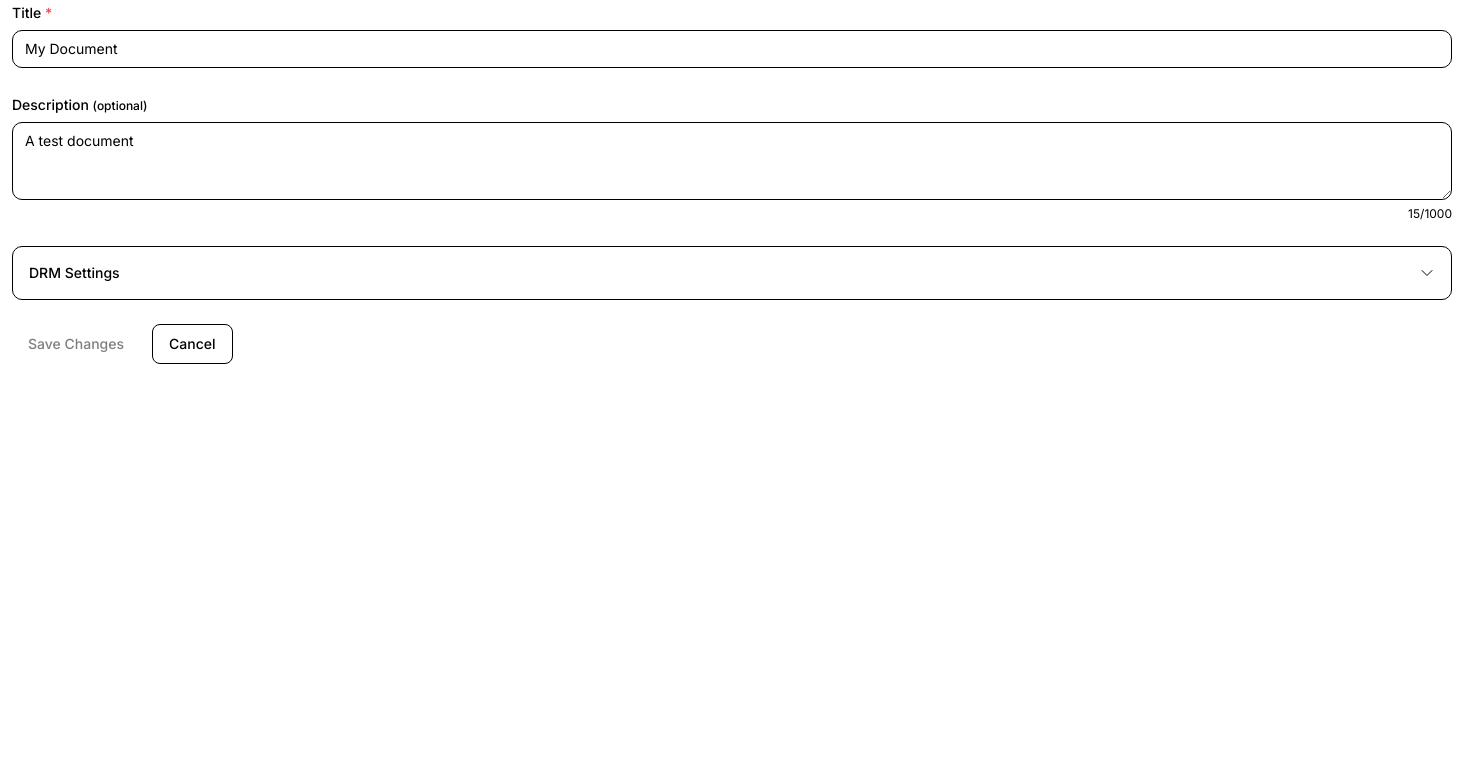
Test: DocumentSettingsForm › AC-3: DRM validation › rejects max_concurrent_sessions below 1 via initial config
Click the button "DRM Settings".
click(74, 272)  # box [29,263,1435,283]
(page scrolled)
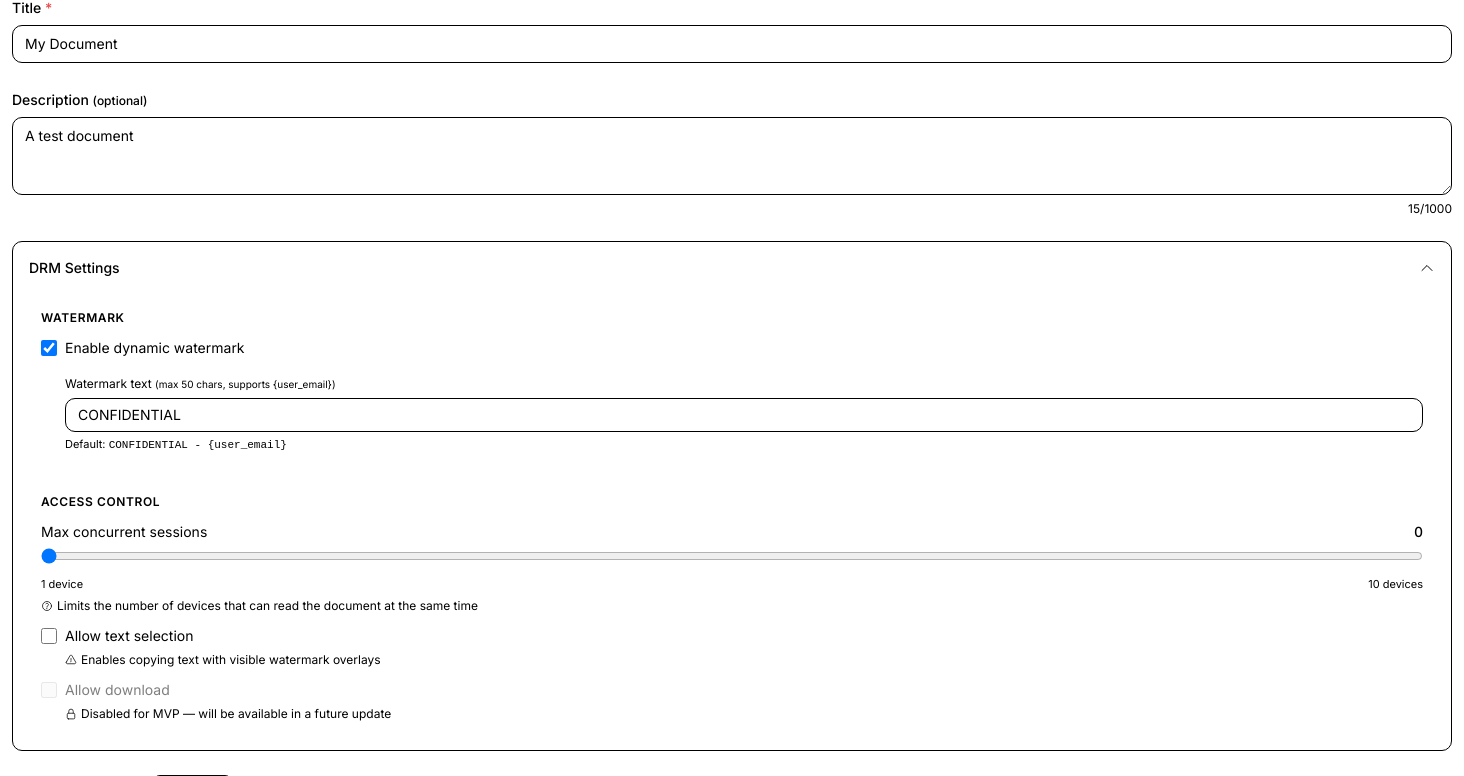
Submit the form
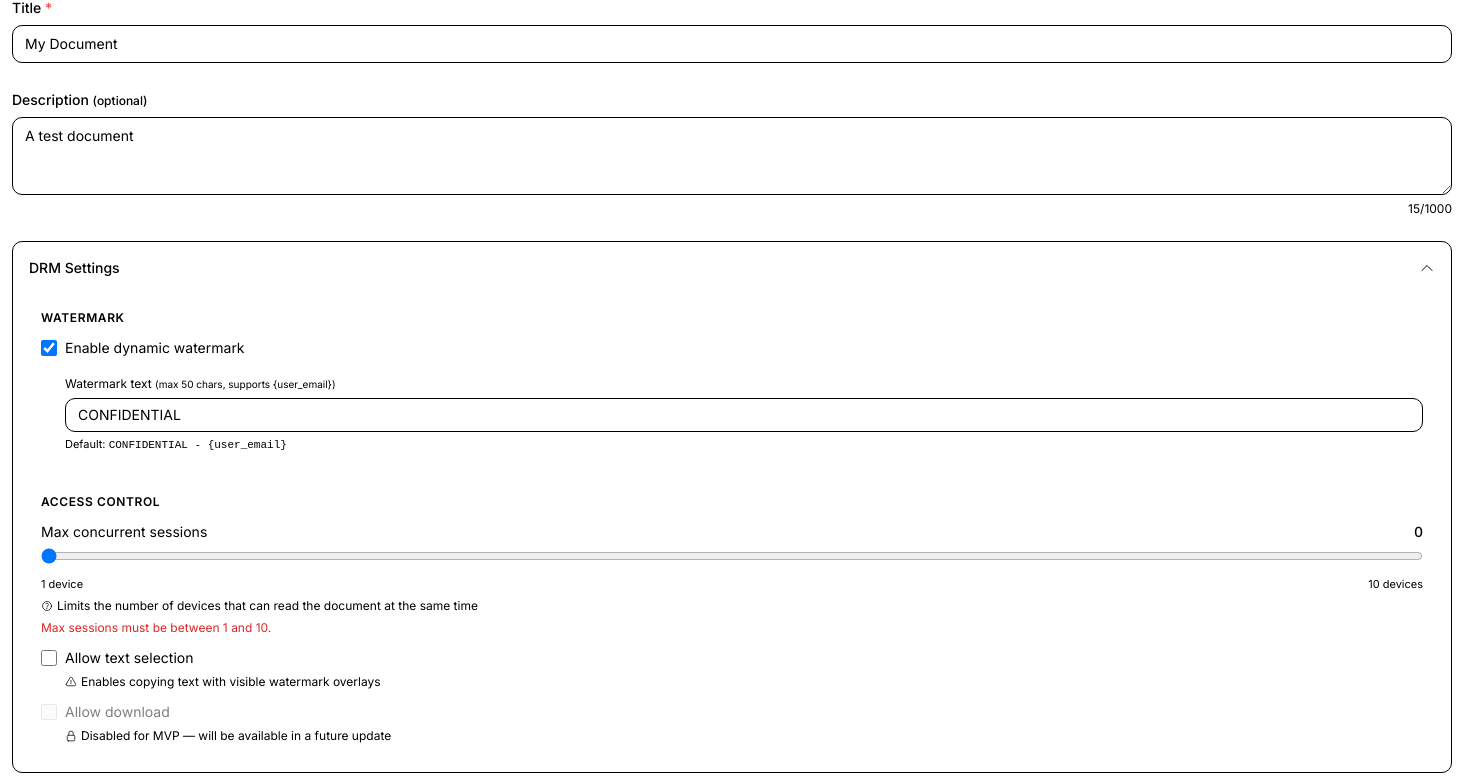
expect the text "Max sessions must be between 1 and 10." is shown: met, box [41,620,271,635]
